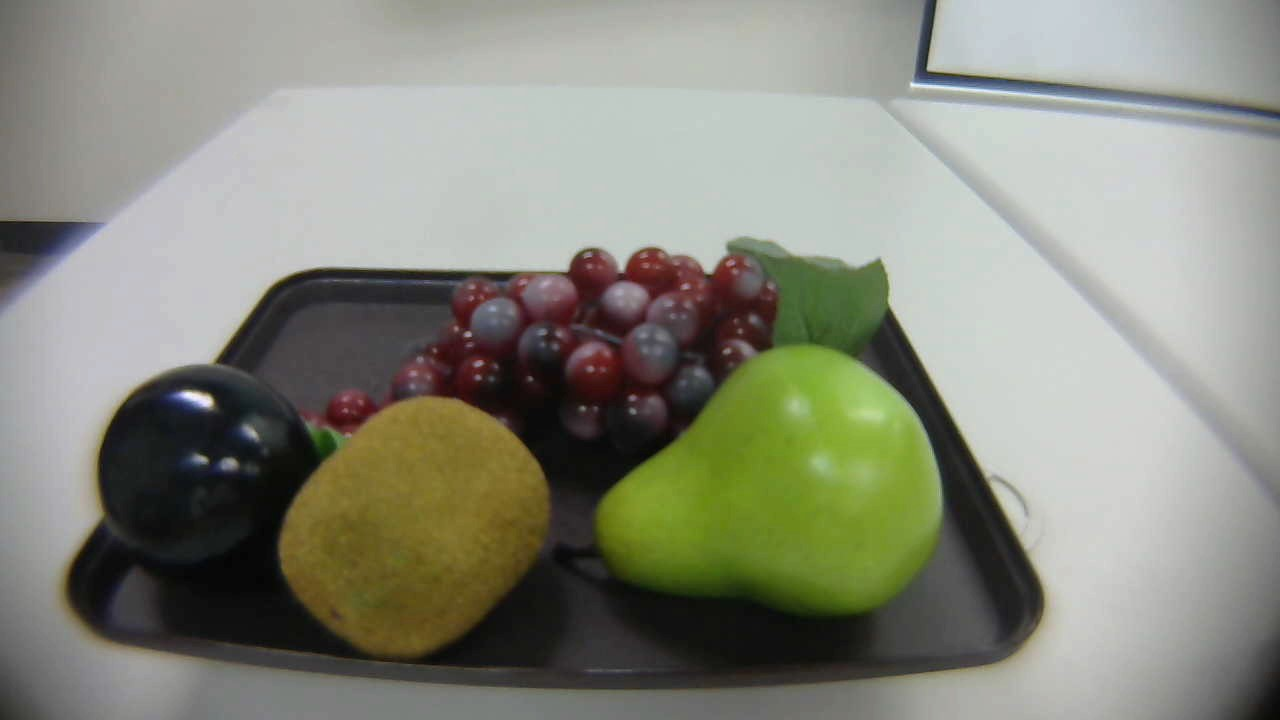grape: (273, 228, 897, 443)
green pear: (553, 344, 950, 624)
kiwi fruit: (255, 397, 558, 661)
mangosteen: (89, 356, 348, 575)
